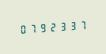nine: (37, 21, 46, 34)
seven: (27, 21, 36, 35), (77, 18, 86, 31)
three: (57, 19, 66, 33), (67, 18, 76, 32)
two: (47, 20, 56, 33)
zero: (17, 22, 26, 35)
